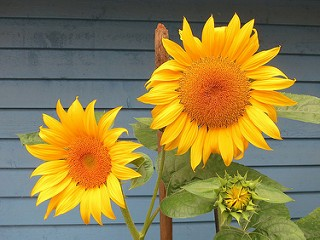flower: (135, 8, 299, 178), (27, 93, 146, 225)
